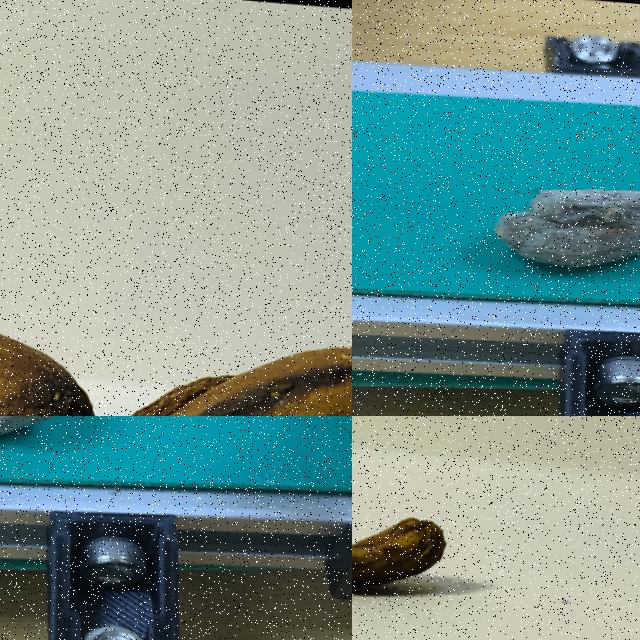Agglomerated_cocoabeans: (0, 246, 351, 415), (413, 129, 639, 330)
Flat_cocoabeans: (352, 440, 503, 630)
